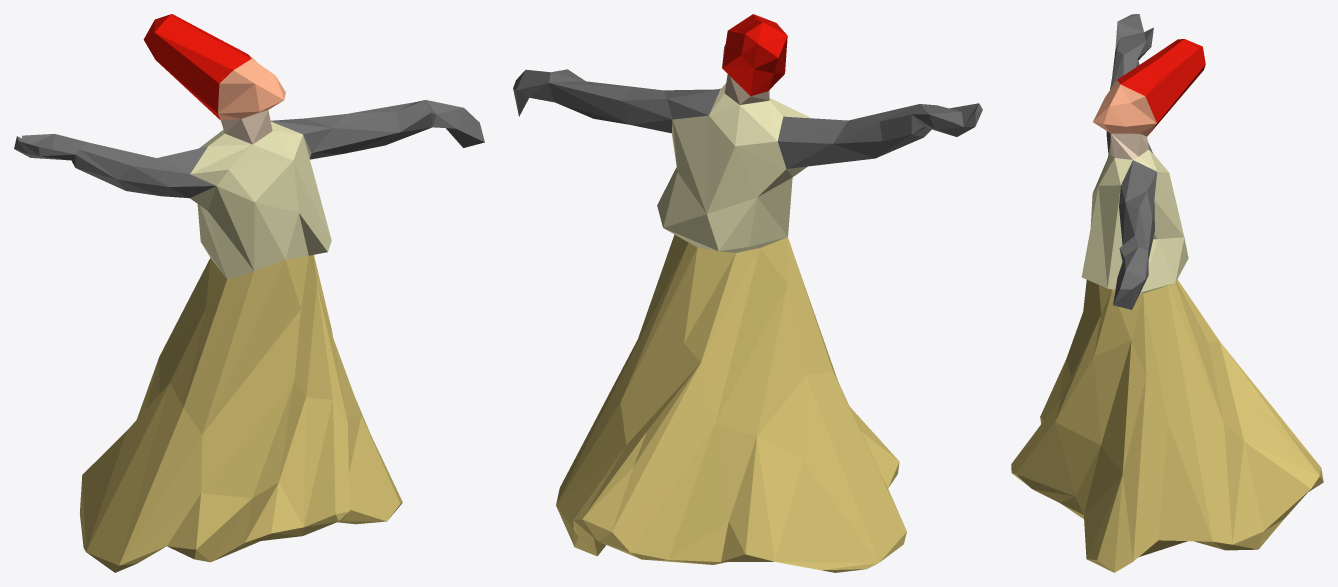
File: mevlana.fbx
3 views of the same model, side by side, from view 1: azimuth 30°, elevation 25°; view 2: azimuth 150°, elevation 25°; view 3: azimuth 270°, elevation 25° (orthographic). The views are drawn at different scales.
Parts seen in each view (by area): view 1: mevlana2.001, mevlana2, mevlana2.006, mevlana2.005, mevlana2.002, mevlana2.003, mevlana2.004; view 2: mevlana2.001, mevlana2, mevlana2.005, mevlana2.006, mevlana2.002, mevlana2.004; view 3: mevlana2.001, mevlana2, mevlana2.006, mevlana2.002, mevlana2.003, mevlana2.005, mevlana2.004.
Boxes of the visible parts, box(x1,y1,x2,y2) form: mevlana2.001: box(79, 255, 402, 572); mevlana2: box(190, 121, 331, 278); mevlana2.006: box(270, 100, 484, 159); mevlana2.005: box(14, 134, 215, 198); mevlana2.002: box(143, 14, 251, 119); mevlana2.003: box(218, 55, 285, 120); mevlana2.004: box(221, 110, 272, 144); mevlana2.001: box(556, 234, 906, 572); mevlana2: box(657, 88, 811, 252); mevlana2.005: box(777, 103, 982, 168); mevlana2.006: box(513, 69, 720, 133); mevlana2.002: box(722, 14, 787, 96); mevlana2.004: box(720, 74, 769, 104); mevlana2.001: box(1011, 279, 1323, 572); mevlana2: box(1081, 143, 1188, 293); mevlana2.006: box(1113, 160, 1157, 309); mevlana2.002: box(1117, 39, 1205, 135); mevlana2.003: box(1093, 80, 1156, 136); mevlana2.005: box(1106, 14, 1153, 153); mevlana2.004: box(1110, 133, 1148, 159).
Size of the model in its own units: 763 by 811 by 510.
